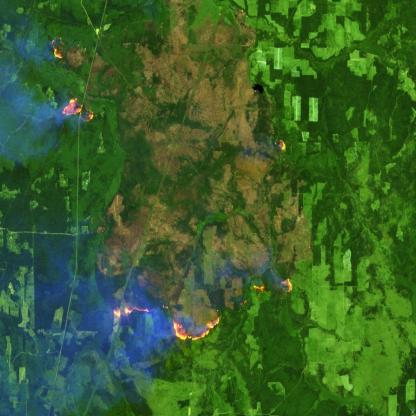fire: (109, 270, 296, 345), (48, 36, 99, 125), (274, 134, 288, 156)
